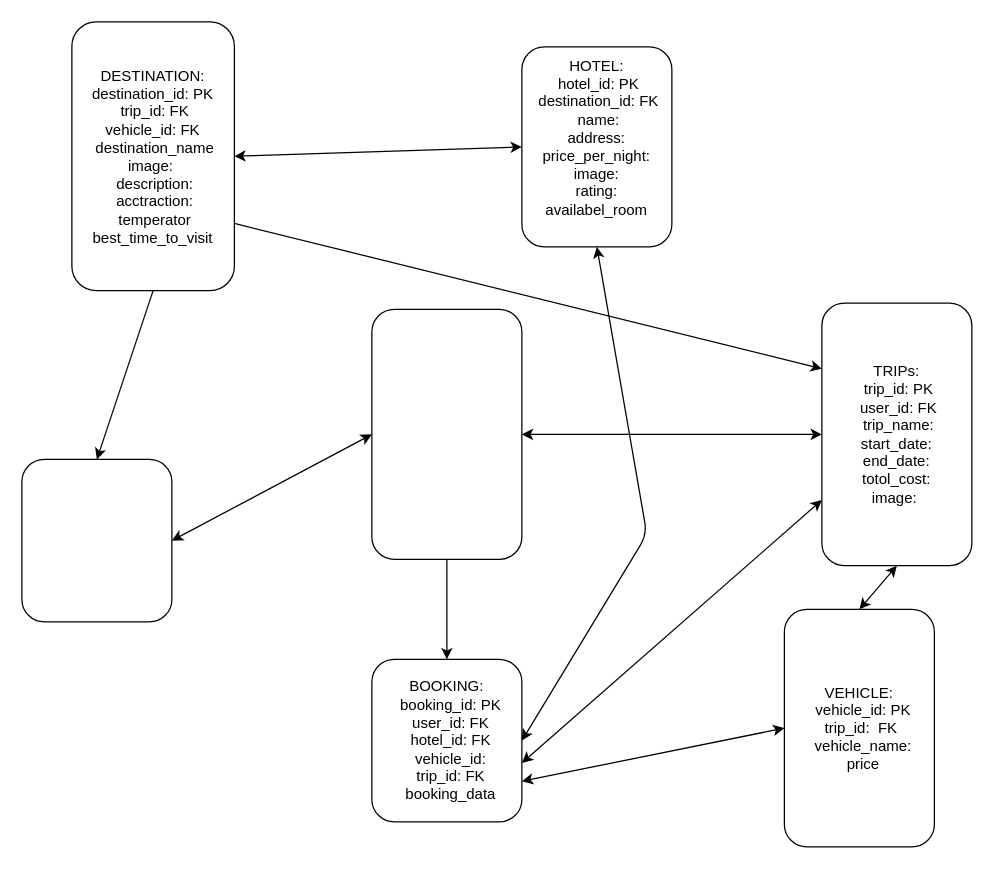
The diagram is 994 pixels wide and 869 high, and some of its shapes have lost their labels. Here are the shapes that lost their labels. From the top down, the box of each, then its label:
(371, 308, 522, 559): USER: user_id: PK first_name: last_name: email: phone: DOB
(21, 458, 172, 622): REVIEW: review_id: PK user_id: FK destination_id: FK rating: text: date_post
